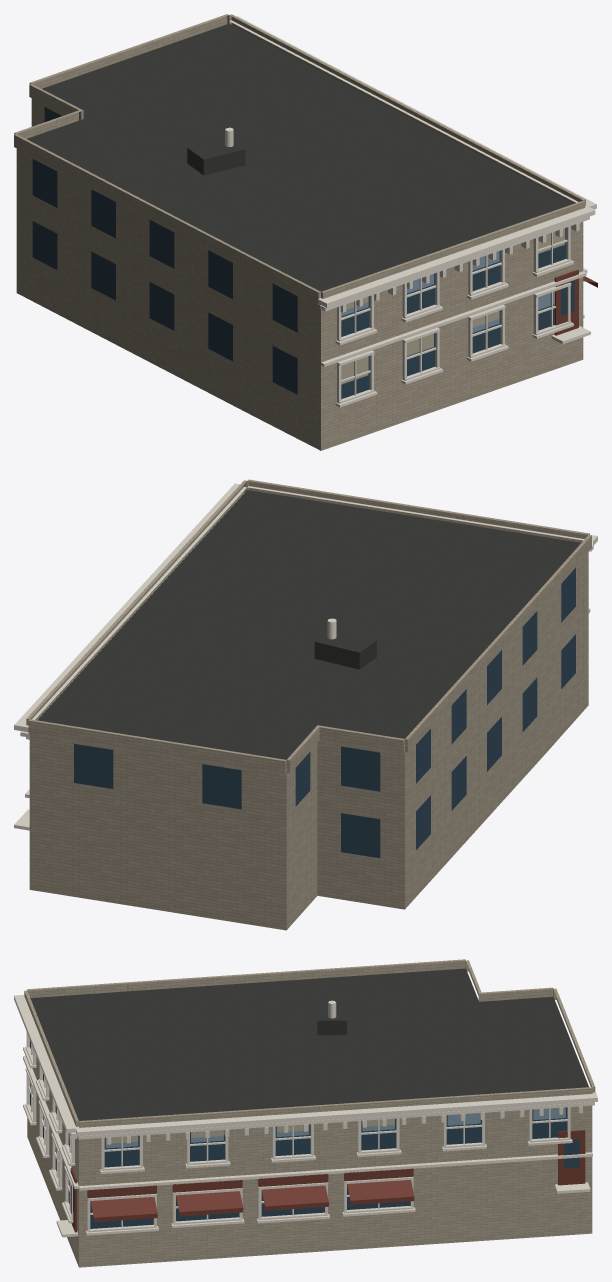
3 renders of one model, top to bottom at view 1: azimuth 30°, elevation 25°; view 2: azimuth 150°, elevation 25°; view 3: azimuth 270°, elevation 25°, orthographic. The views are drawn at different scales.
Parts seen in each view (by area): view 1: Footprint 0 / surface 1, Footprint 0 / surface 2, Cornices and window frames, Inset glazing, Facade bay volumes, Interior blind variation, Sky reflection panels, Storefronts and doors, Inferred rooftop service enclosure / surface 5, Inferred rooftop service enclosure / surface 3; view 2: Footprint 0 / surface 1, Footprint 0 / surface 2, Facade bay volumes, Inset glazing, Cornices and window frames, Inferred rooftop service enclosure / surface 6, Inferred rooftop service enclosure / surface 3; view 3: Footprint 0 / surface 1, Footprint 0 / surface 2, Cornices and window frames, Facade bay volumes, Storefronts and doors, Inset glazing, Sky reflection panels, Interior blind variation, Inferred rooftop service enclosure / surface 3, Inferred rooftop service enclosure / surface 1.
Part boxes in pixels (x1=…): Footprint 0 / surface 1: x1=27, y1=23, x2=572, y2=291; Footprint 0 / surface 2: x1=16, y1=98, x2=583, y2=450; Cornices and window frames: x1=229, y1=16, x2=596, y2=407; Inset glazing: x1=32, y1=107, x2=574, y2=399; Facade bay volumes: x1=14, y1=14, x2=585, y2=304; Interior blind variation: x1=341, y1=228, x2=564, y2=384; Sky reflection panels: x1=341, y1=228, x2=565, y2=368; Storefronts and doors: x1=554, y1=269, x2=597, y2=335; Inferred rooftop service enclosure / surface 5: x1=203, y1=149, x2=245, y2=175; Inferred rooftop service enclosure / surface 3: x1=188, y1=138, x2=245, y2=159; Footprint 0 / surface 1: x1=37, y1=490, x2=580, y2=759; Footprint 0 / surface 2: x1=29, y1=552, x2=588, y2=930; Facade bay volumes: x1=26, y1=479, x2=591, y2=774; Inset glazing: x1=74, y1=568, x2=575, y2=858; Cornices and window frames: x1=14, y1=483, x2=597, y2=830; Inferred rooftop service enclosure / surface 6: x1=314, y1=642, x2=359, y2=669; Inferred rooftop service enclosure / surface 3: x1=315, y1=630, x2=376, y2=652; Footprint 0 / surface 1: x1=30, y1=968, x2=588, y2=1120; Footprint 0 / surface 2: x1=27, y1=1056, x2=592, y2=1267; Cornices and window frames: x1=14, y1=994, x2=597, y2=1237; Facade bay volumes: x1=24, y1=959, x2=595, y2=1127; Storefronts and doors: x1=70, y1=1130, x2=585, y2=1232; Inset glazing: x1=30, y1=1040, x2=579, y2=1228; Sky reflection panels: x1=56, y1=1107, x2=565, y2=1185; Interior blind variation: x1=30, y1=1082, x2=394, y2=1143; Inferred rooftop service enclosure / surface 3: x1=317, y1=1001, x2=346, y2=1020; Inferred rooftop service enclosure / surface 1: x1=317, y1=1020, x2=346, y2=1035.
Bounding box in the file's own units: 16.35 × 7.45 × 23.48.
